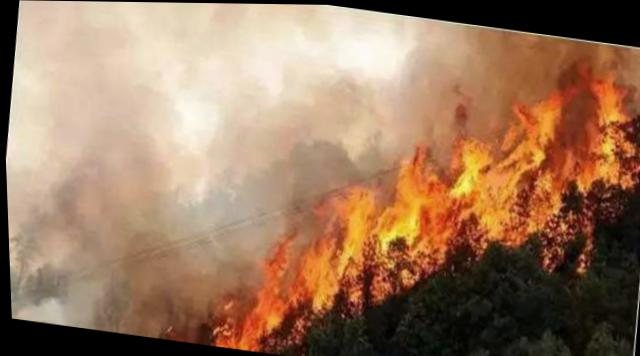fire: (193, 9, 639, 355)
